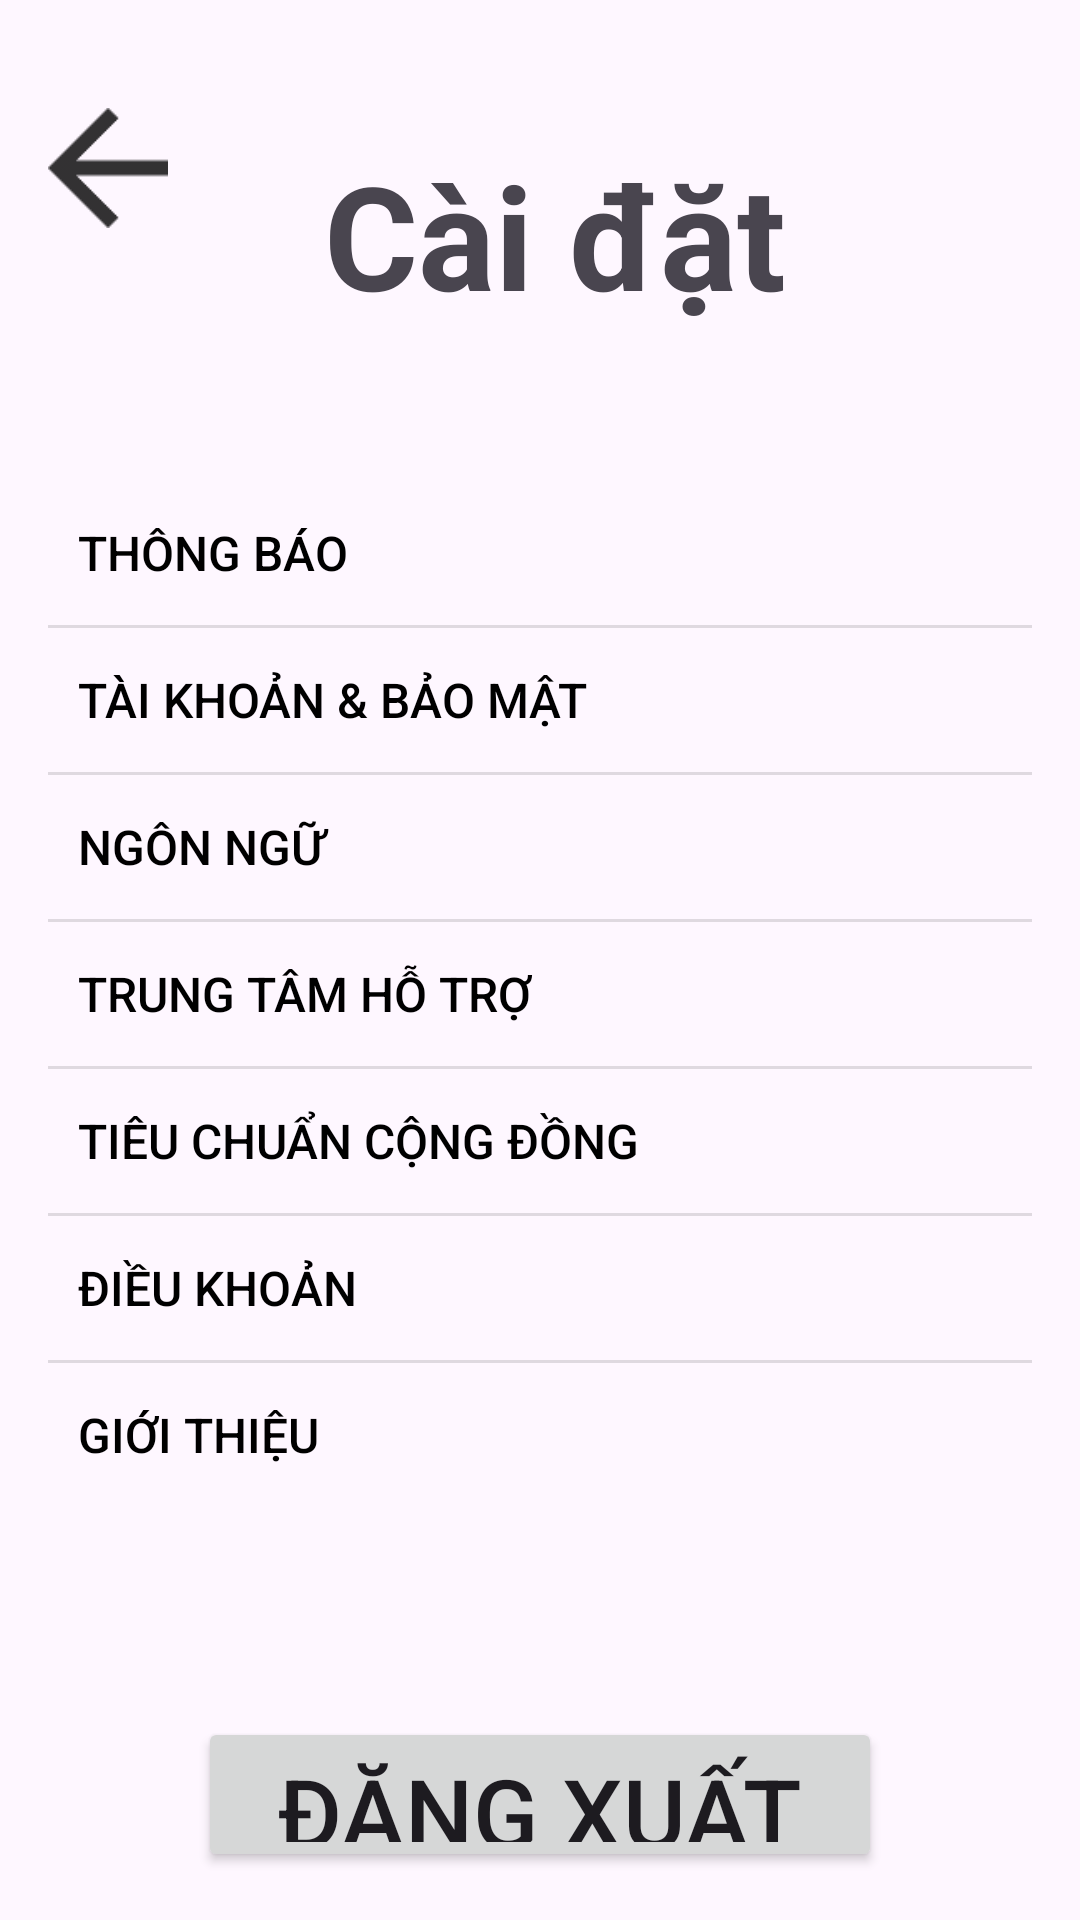

Named icons in this screenshot (1080w x 1920h) and their centers, point (x, y):
arrowback: point (108, 168)
